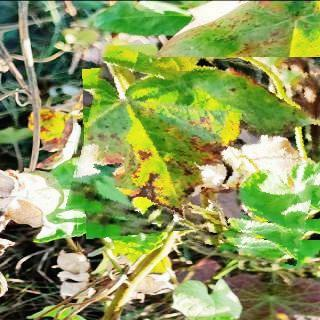blight: (73, 57, 320, 252)
